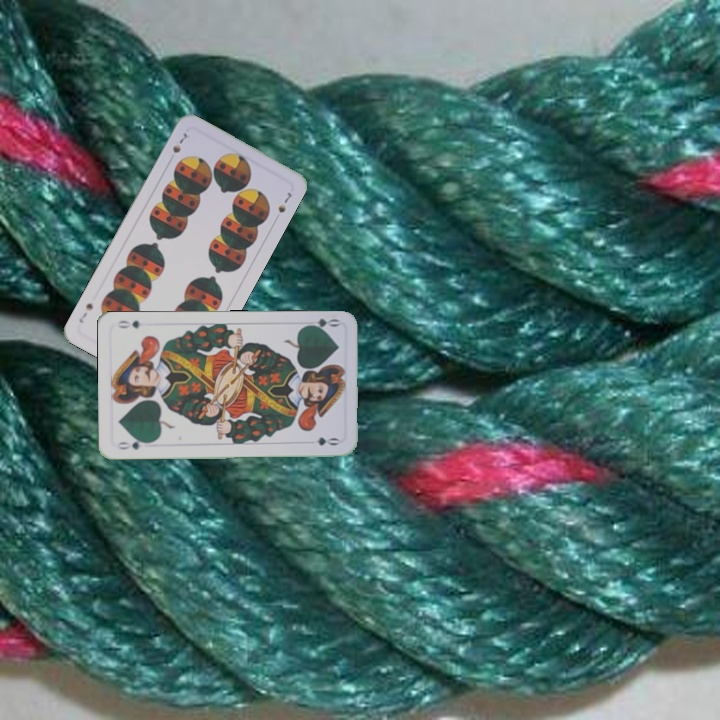GO: (301, 314, 341, 333), (113, 435, 153, 452)
S7: (168, 128, 192, 156)
